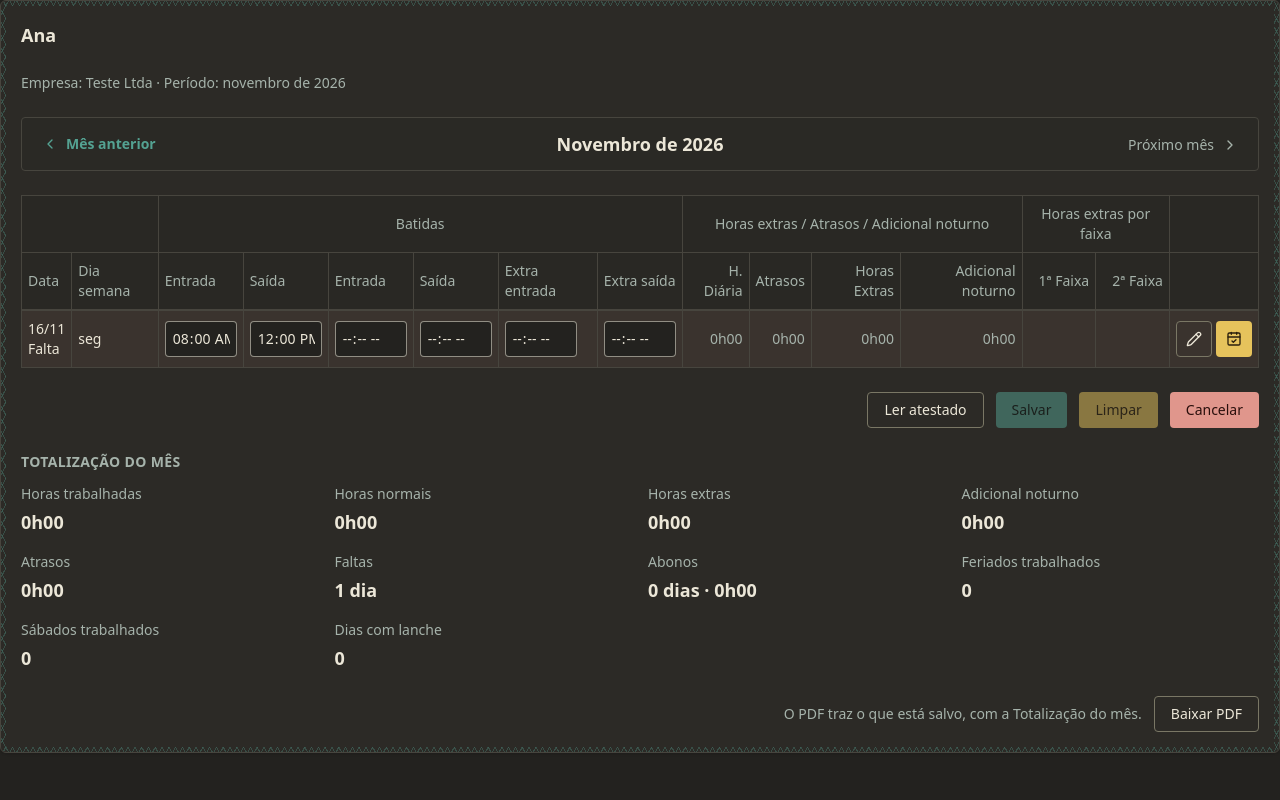
Test case: CartaoDePontoContainer › Limpar da tabela esvazia os campos da linha aberta sem sair da tela
Click the button named "Editar seg 16/11" at [1194, 339], box 1176,321 -> 1212,357
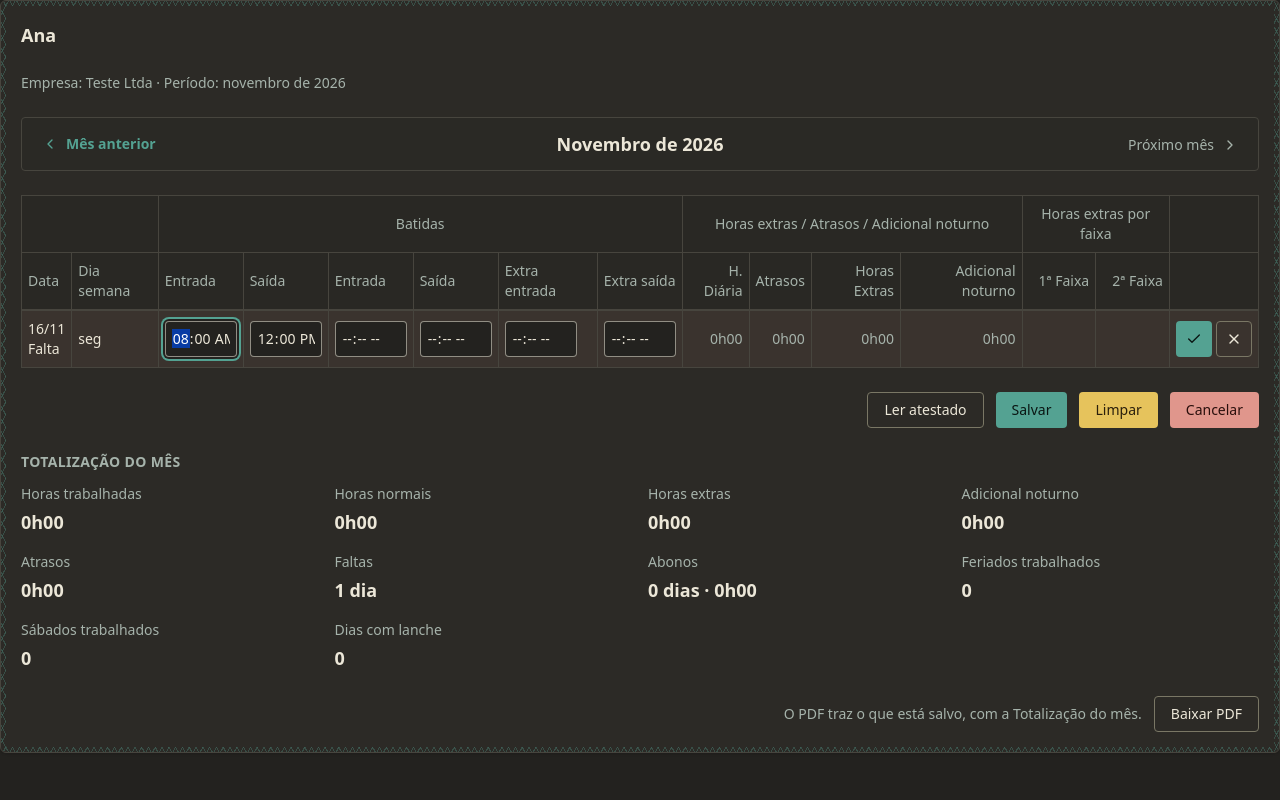
Expected: the time field named "Entrada 1 de seg 16/11" holds "08:00", 165,321 -> 237,357
Click the button "Limpar" at [1119, 410], box 1080,392 -> 1158,428
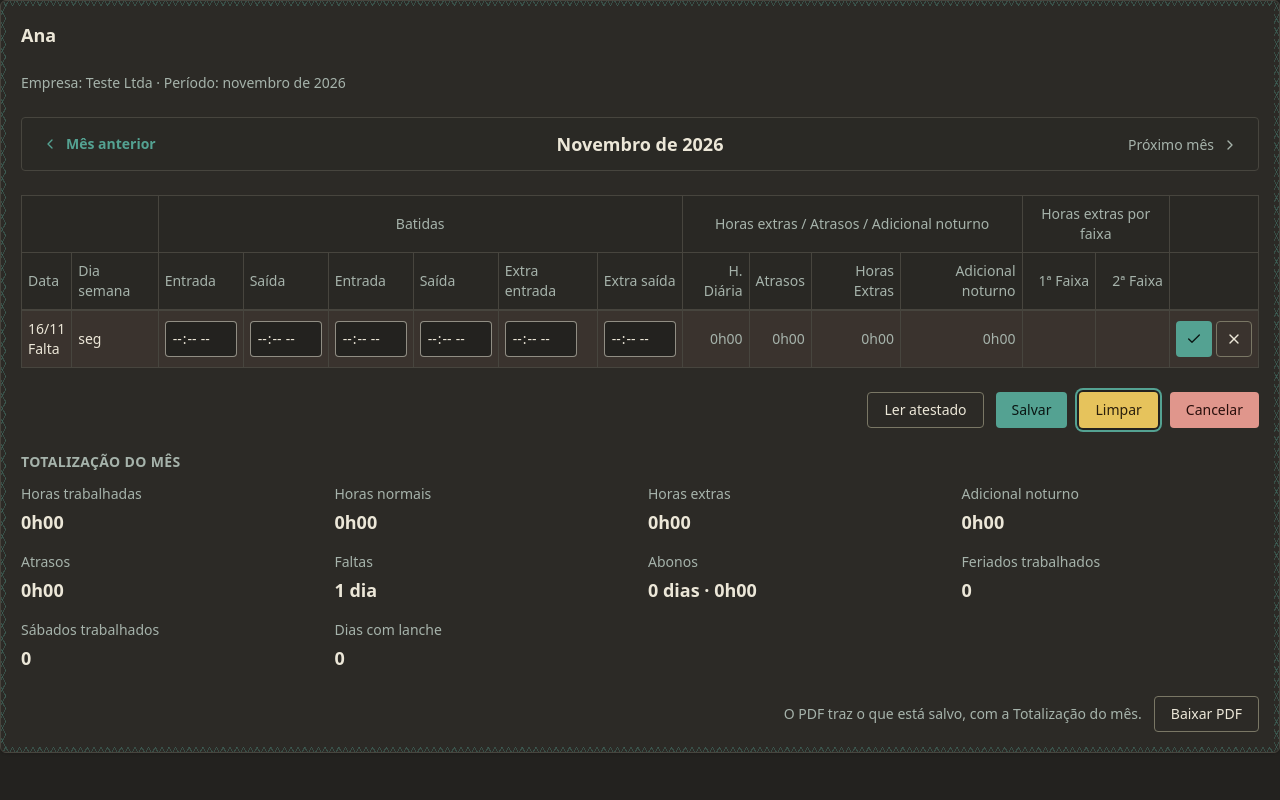
Result: the button named "Salvar seg 16/11" is shown at 1176,321 -> 1212,357
Result: the time field named "Entrada 1 de seg 16/11" is empty at 165,321 -> 237,357
